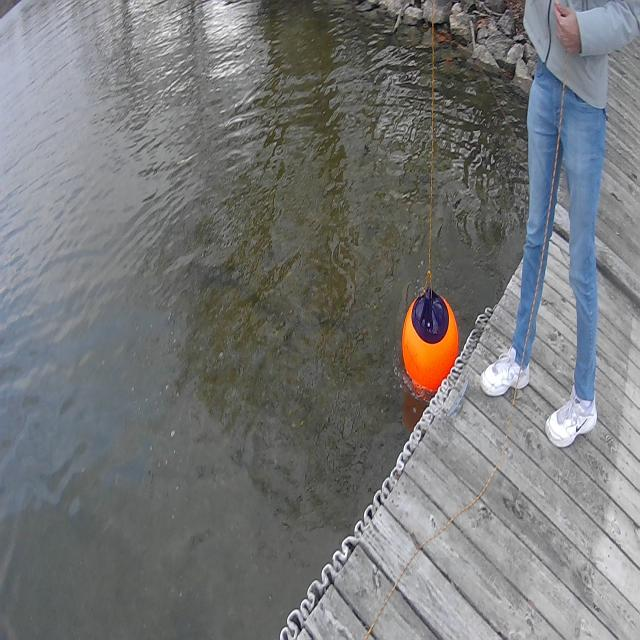Buoy: (398, 281, 464, 396)
